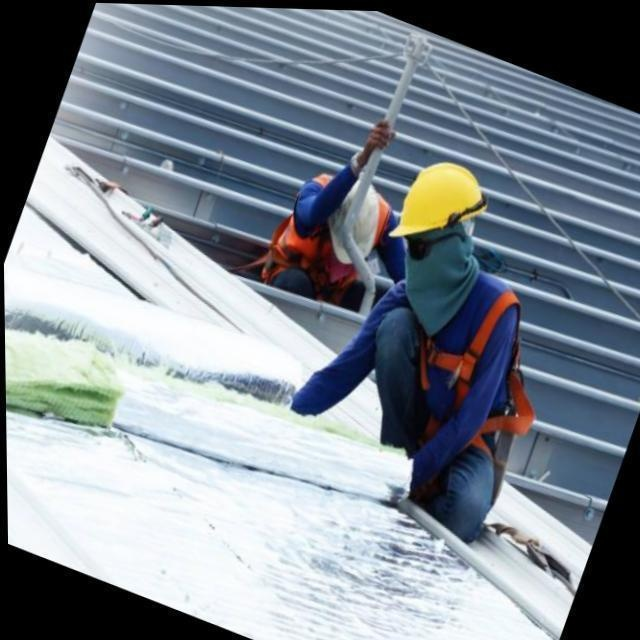Arnes_seguridad: (383, 267, 526, 462)
